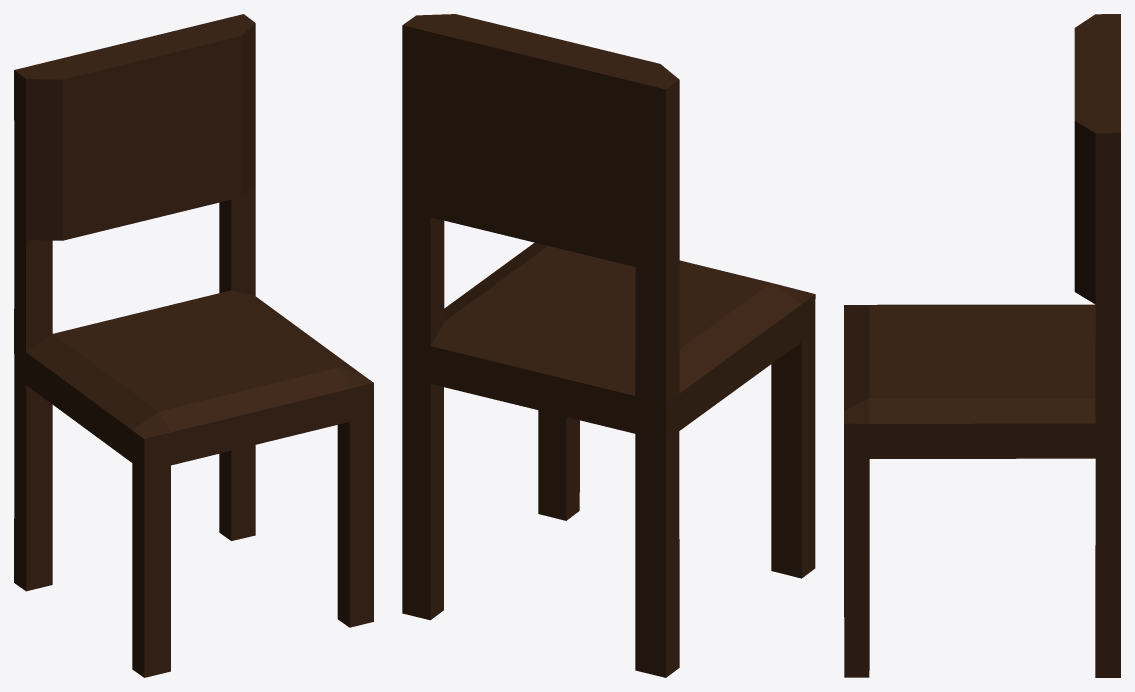
File: chair.fbx
3 views of the same model, side by side, from view 1: azimuth 30°, elevation 25°; view 2: azimuth 150°, elevation 25°; view 3: azimuth 270°, elevation 25° (orthographic). The views are drawn at different scales.
Visible parts, largest first — view 1: Chair; view 2: Chair; view 3: Chair.
Boxes of the visible parts, x1,y1,x2,y2 form: Chair: (14,14,373,677); Chair: (402,14,815,677); Chair: (844,14,1120,677).
Size of the model in its own units: 185 by 395 by 182.
